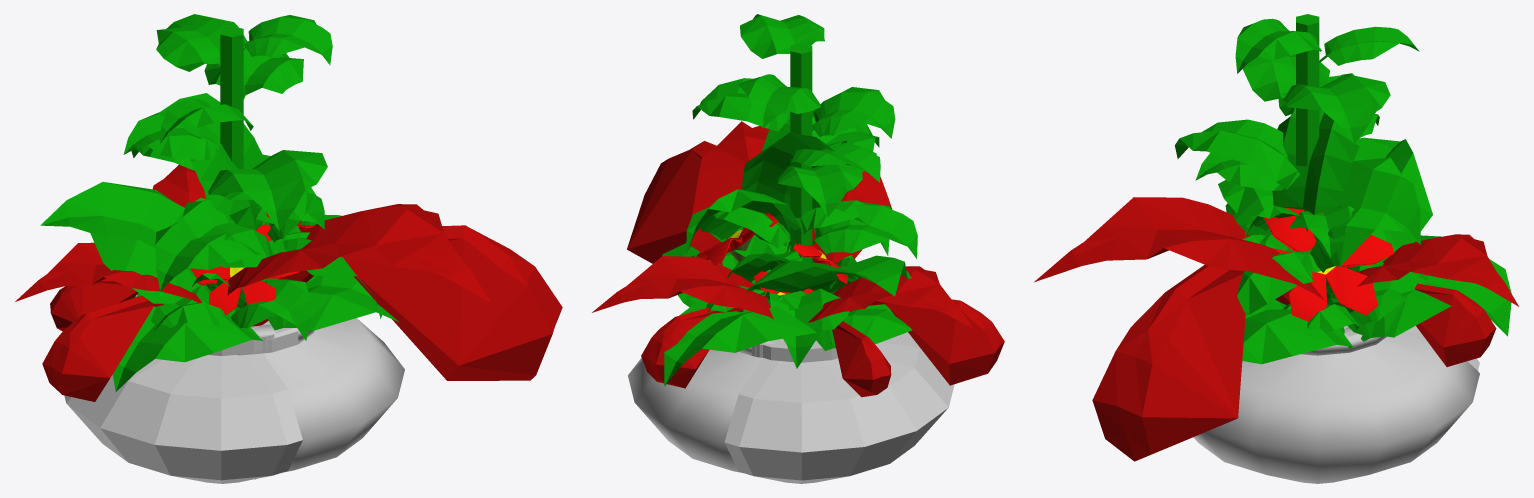
File: potted_plants_01.fbx
3 renders of one model, left to right at view 1: azimuth 30°, elevation 25°; view 2: azimuth 150°, elevation 25°; view 3: azimuth 270°, elevation 25°, orthographic. The views are drawn at different scales.
Parts seen in each view (by area): view 1: potted_plant_01e, potted_plant_01c, potted_plant_01b, potted_plant_01d, potted_plant_01a; view 2: potted_plant_01e, potted_plant_01c, potted_plant_01a, potted_plant_01b, potted_plant_01d; view 3: potted_plant_01e, potted_plant_01d, potted_plant_01c, potted_plant_01a, potted_plant_01b.
Boxes of the visible parts, x1,y1,x2,y2 form: potted_plant_01e: [15, 164, 562, 483]; potted_plant_01c: [123, 14, 332, 350]; potted_plant_01b: [40, 182, 398, 391]; potted_plant_01d: [190, 212, 404, 472]; potted_plant_01a: [151, 93, 382, 479]; potted_plant_01e: [592, 121, 1004, 483]; potted_plant_01c: [692, 14, 917, 357]; potted_plant_01a: [686, 132, 892, 368]; potted_plant_01b: [662, 243, 912, 386]; potted_plant_01d: [628, 213, 848, 472]; potted_plant_01e: [1034, 197, 1518, 461]; potted_plant_01d: [1193, 207, 1479, 483]; potted_plant_01c: [1175, 14, 1419, 332]; potted_plant_01a: [1225, 75, 1426, 355]; potted_plant_01b: [1242, 137, 1511, 364].
Bounding box in the file's own units: 116 × 111 × 109.
